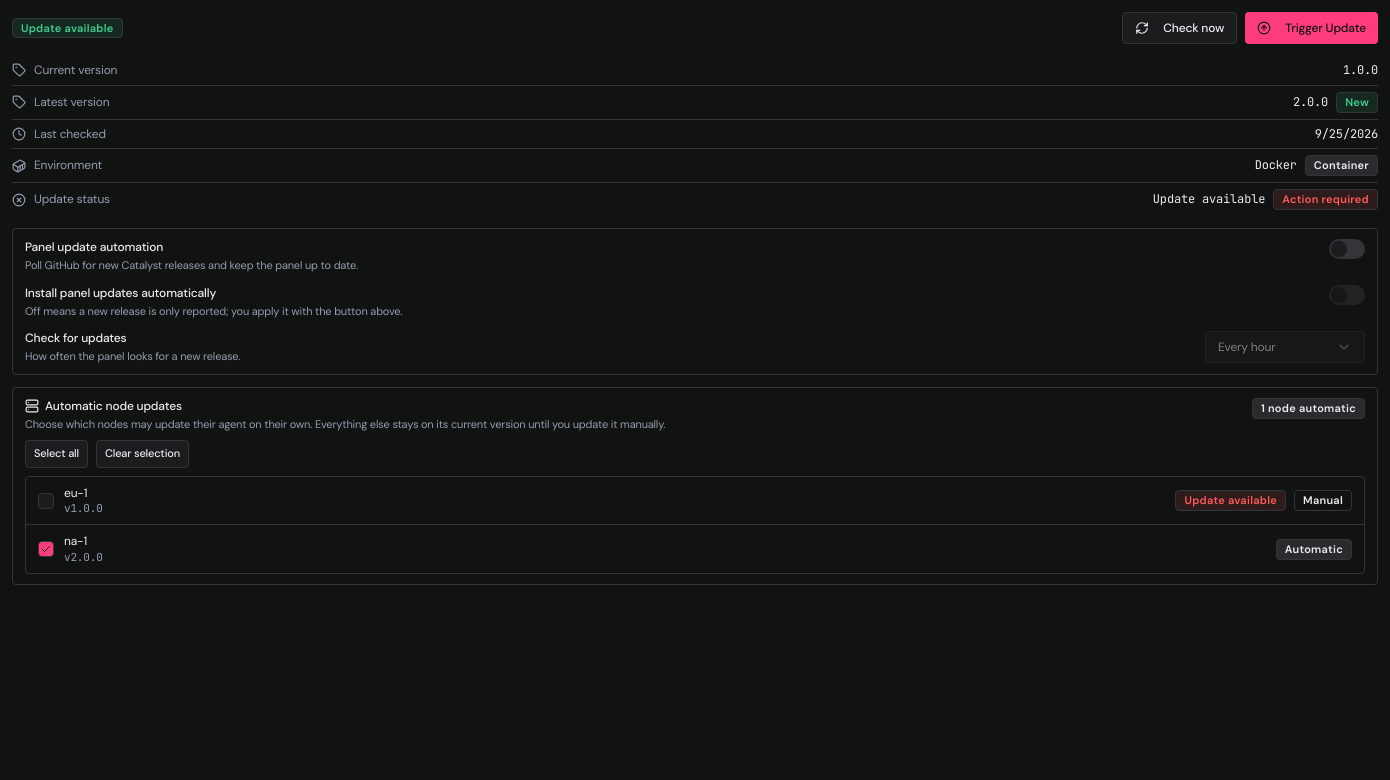
Test: UpdateSettings node auto-update selection › does not send a request when a node is toggled back to its saved value
The width and height of the screenshot is (1390, 780).
Click the checkbox named "eu-1" at (46, 500), box [38, 492, 54, 508]
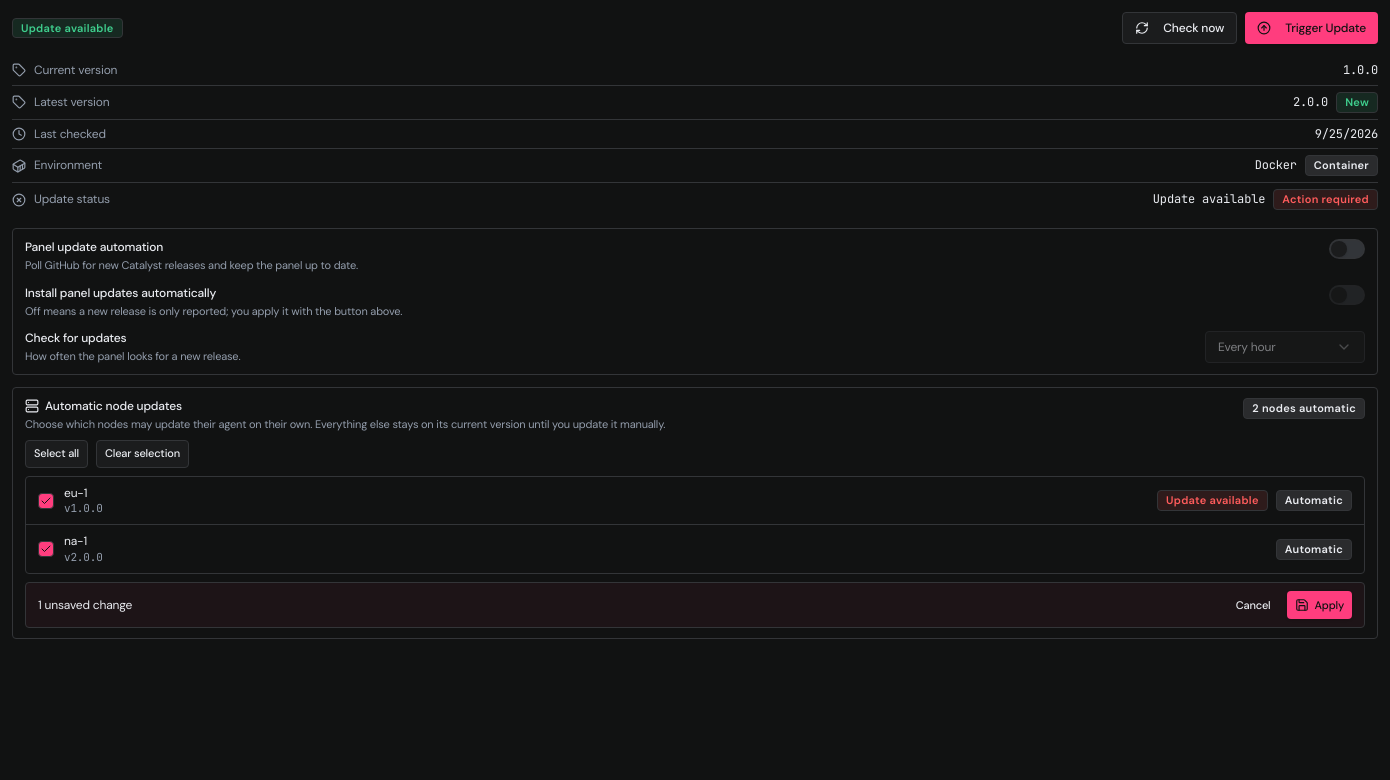
Click the checkbox named "eu-1" at (46, 500), box [38, 492, 54, 508]
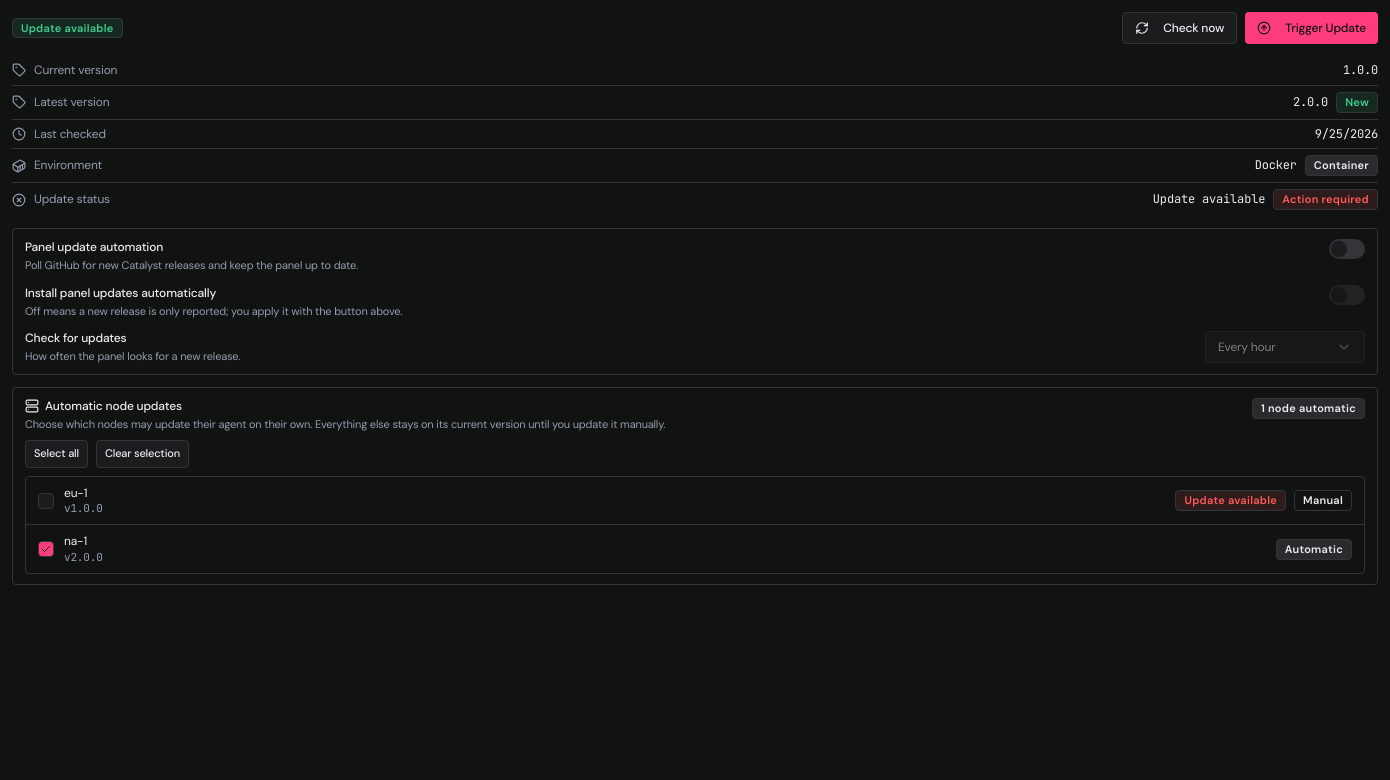
Result: the text "unsaved change" is gone
